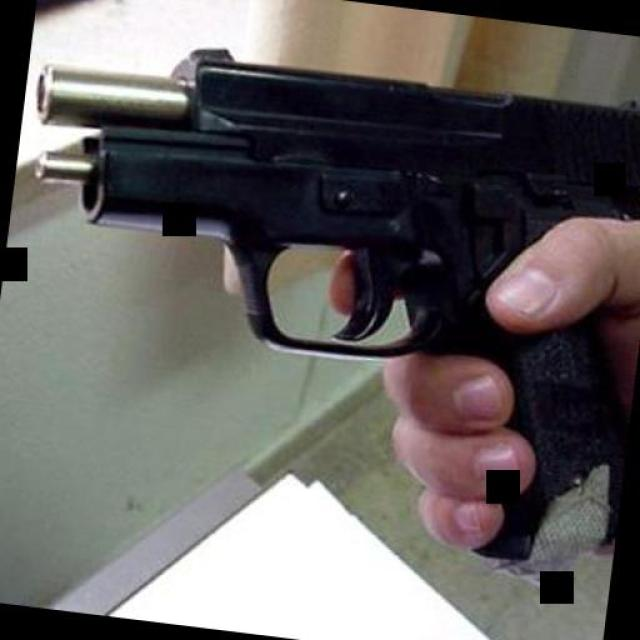gun: (0, 25, 640, 571)
